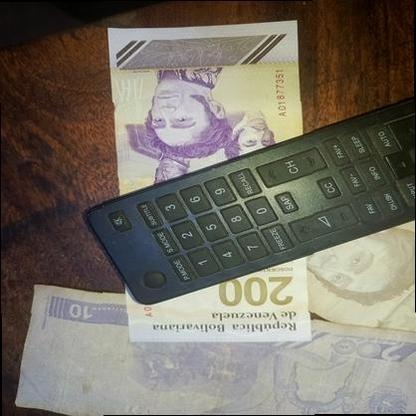five-front-vef: (307, 196, 416, 332)
ten-back-vef: (15, 284, 416, 416)
two_hundred-front-vef: (109, 21, 314, 342)
